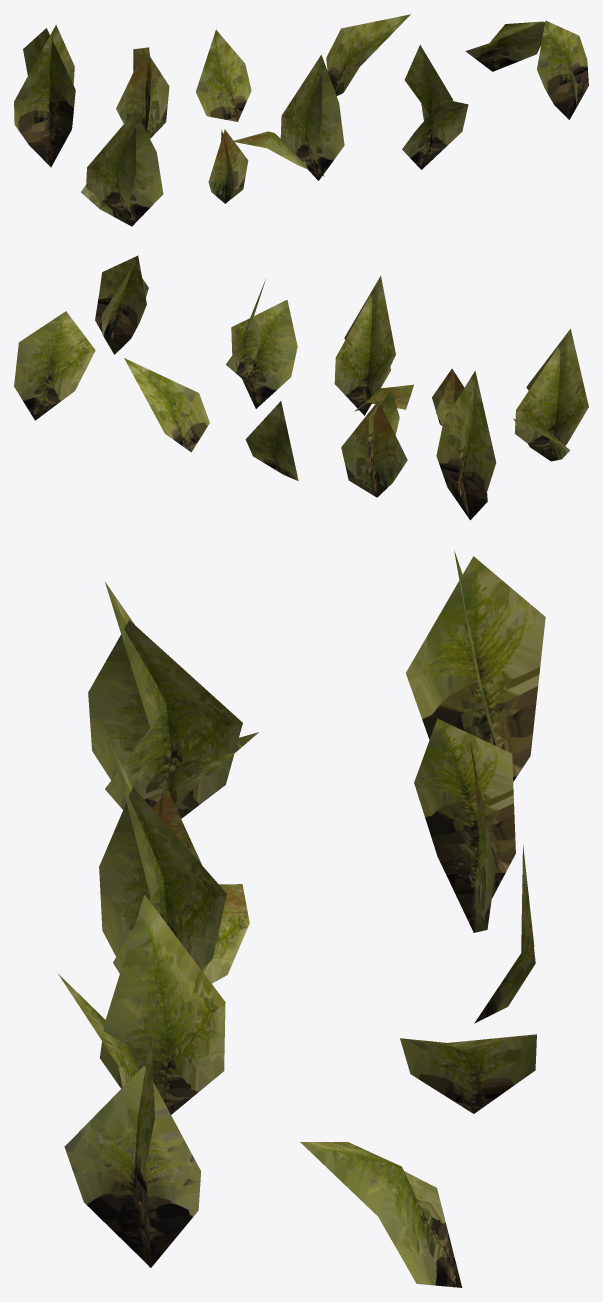
File: moss_01_1k.gltf
3 views of the same model, one above another, from view 1: azimuth 30°, elevation 25°; view 2: azimuth 150°, elevation 25°; view 3: azimuth 270°, elevation 25° (orthographic). The views are drawn at different scales.
Visible parts, largest first — view 1: moss_strand_f_LOD0, moss_strand_a_LOD0, moss_strand_c_LOD0, moss_strand_d_LOD0, moss_strand_e_LOD0, moss_strand_h_LOD0, moss_strand_g_LOD0, moss_strand_i_LOD0, moss_strand_j_LOD0, moss_strand_b_LOD0; view 2: moss_strand_a_LOD0, moss_strand_j_LOD0, moss_strand_c_LOD0, moss_strand_f_LOD0, moss_strand_d_LOD0, moss_strand_g_LOD0, moss_strand_i_LOD0, moss_strand_e_LOD0, moss_strand_h_LOD0, moss_strand_b_LOD0; view 3: moss_strand_a_LOD0, moss_strand_f_LOD0, moss_strand_d_LOD0, moss_strand_e_LOD0, moss_strand_c_LOD0, moss_strand_g_LOD0, moss_strand_j_LOD0, moss_strand_i_LOD0, moss_strand_h_LOD0, moss_strand_b_LOD0.
Part boxes in pixels (left/top/right/bottom): moss_strand_f_LOD0: left=14, top=25, right=75, bottom=167; moss_strand_a_LOD0: left=81, top=111, right=163, bottom=226; moss_strand_c_LOD0: left=234, top=54, right=344, bottom=180; moss_strand_d_LOD0: left=402, top=45, right=468, bottom=169; moss_strand_e_LOD0: left=537, top=20, right=588, bottom=119; moss_strand_h_LOD0: left=196, top=30, right=251, bottom=121; moss_strand_g_LOD0: left=116, top=47, right=169, bottom=138; moss_strand_i_LOD0: left=326, top=14, right=410, bottom=95; moss_strand_j_LOD0: left=465, top=21, right=544, bottom=71; moss_strand_b_LOD0: left=208, top=129, right=248, bottom=203; moss_strand_a_LOD0: left=513, top=329, right=588, bottom=461; moss_strand_j_LOD0: left=14, top=311, right=95, bottom=420; moss_strand_c_LOD0: left=334, top=276, right=413, bottom=415; moss_strand_f_LOD0: left=436, top=371, right=496, bottom=520; moss_strand_d_LOD0: left=226, top=279, right=297, bottom=408; moss_strand_g_LOD0: left=341, top=387, right=407, bottom=497; moss_strand_i_LOD0: left=124, top=358, right=209, bottom=452; moss_strand_e_LOD0: left=95, top=255, right=148, bottom=354; moss_strand_h_LOD0: left=245, top=401, right=298, bottom=480; moss_strand_b_LOD0: left=432, top=368, right=464, bottom=425; moss_strand_a_LOD0: left=88, top=582, right=258, bottom=818; moss_strand_f_LOD0: left=406, top=551, right=545, bottom=781; moss_strand_d_LOD0: left=58, top=895, right=225, bottom=1114; moss_strand_e_LOD0: left=64, top=1036, right=200, bottom=1267; moss_strand_c_LOD0: left=99, top=748, right=249, bottom=983; moss_strand_g_LOD0: left=414, top=718, right=515, bottom=932; moss_strand_j_LOD0: left=300, top=1142, right=462, bottom=1287; moss_strand_i_LOD0: left=400, top=1034, right=536, bottom=1113; moss_strand_h_LOD0: left=474, top=845, right=535, bottom=1023; moss_strand_b_LOD0: left=152, top=790, right=201, bottom=864.
Size of the model in its own units: 0.1109 by 0.0335 by 0.0454.
1 material, 1 textured.
